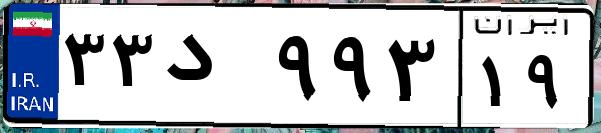1: (475, 38, 525, 113)
3: (385, 28, 445, 110), (57, 26, 110, 100), (110, 28, 158, 98)
9: (270, 28, 330, 110), (330, 28, 385, 110), (525, 38, 570, 115)
د: (158, 20, 270, 120)
